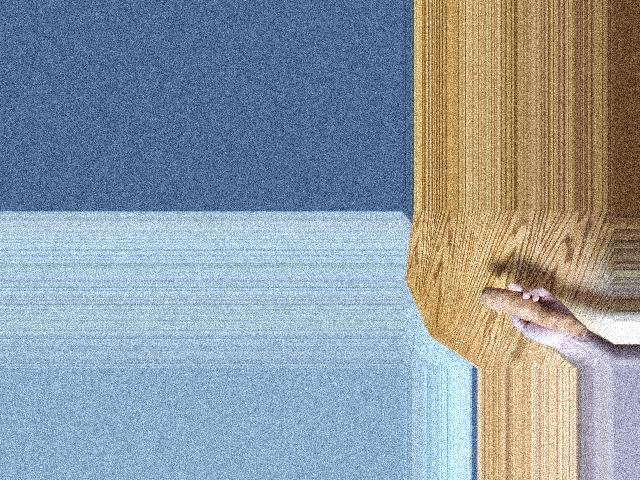sweet_potato: (478, 285, 588, 340)
